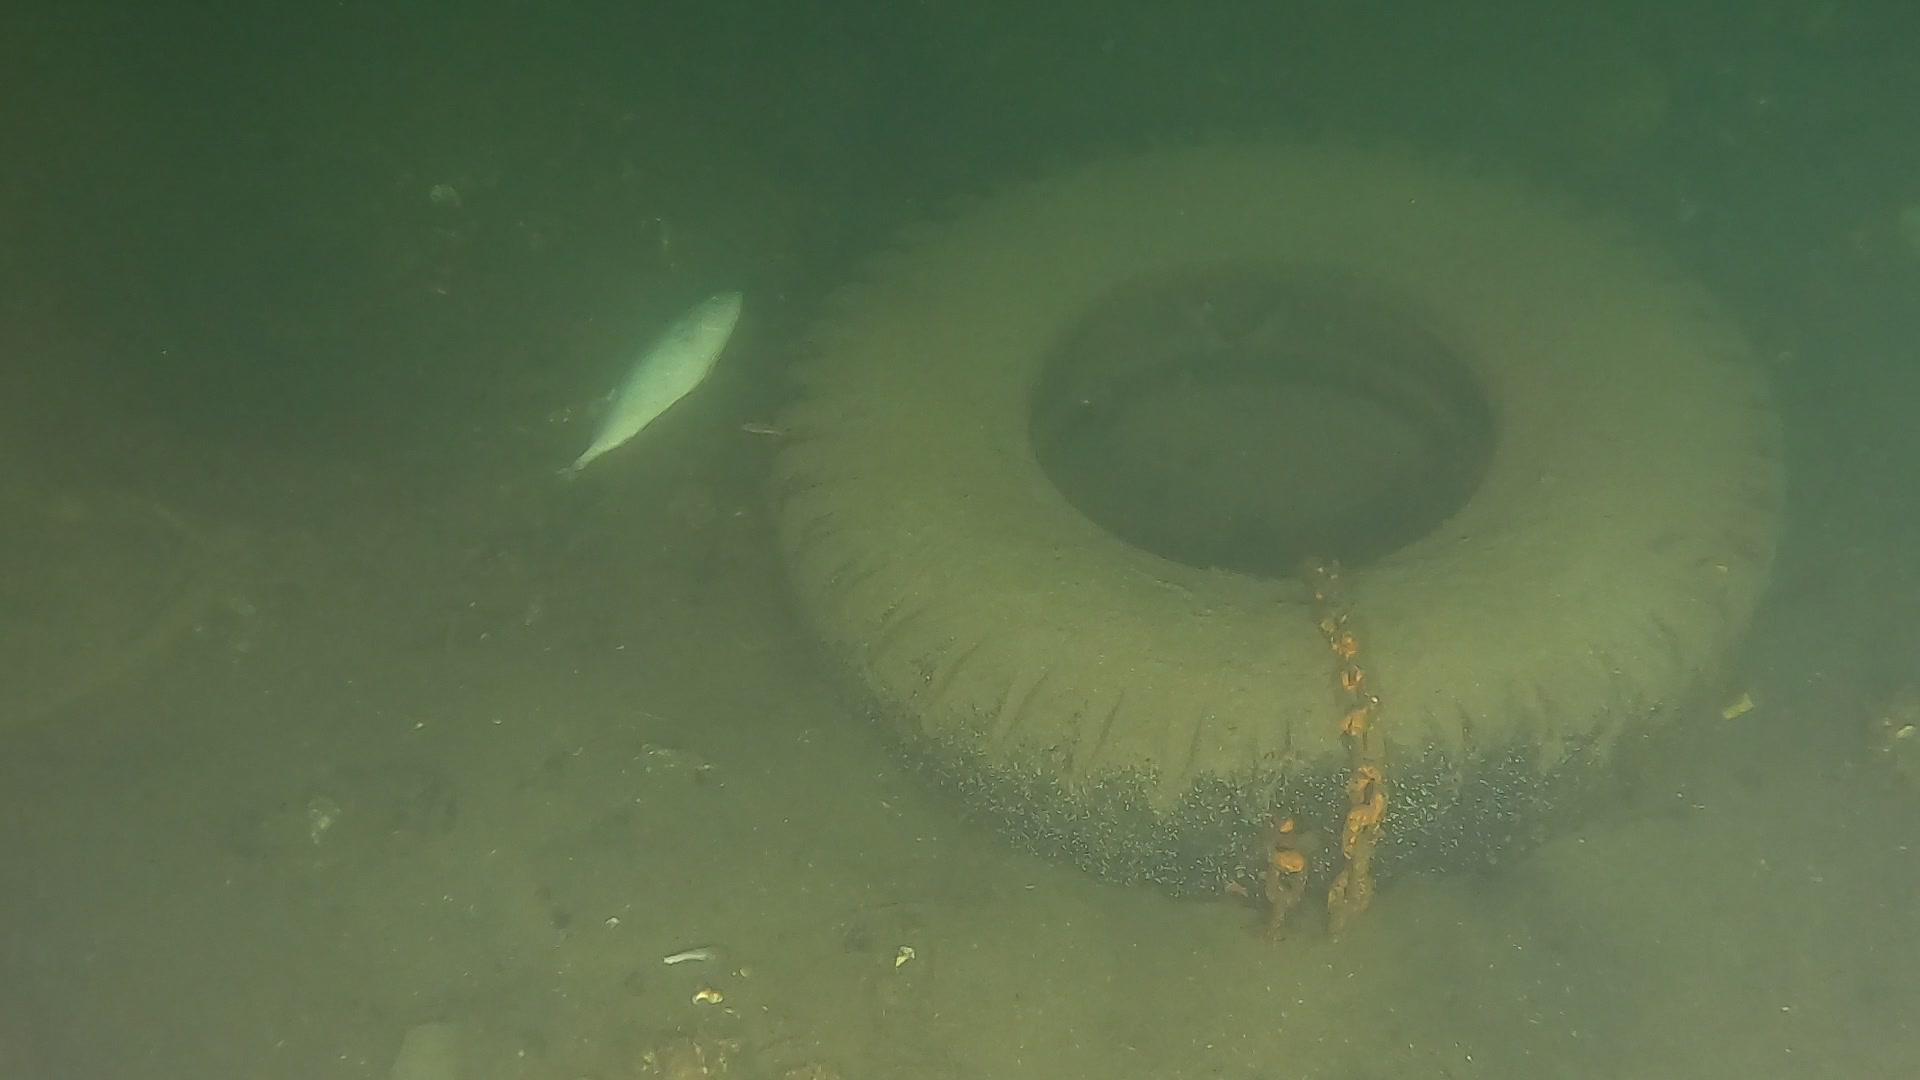tire: (765, 128, 1793, 907)
